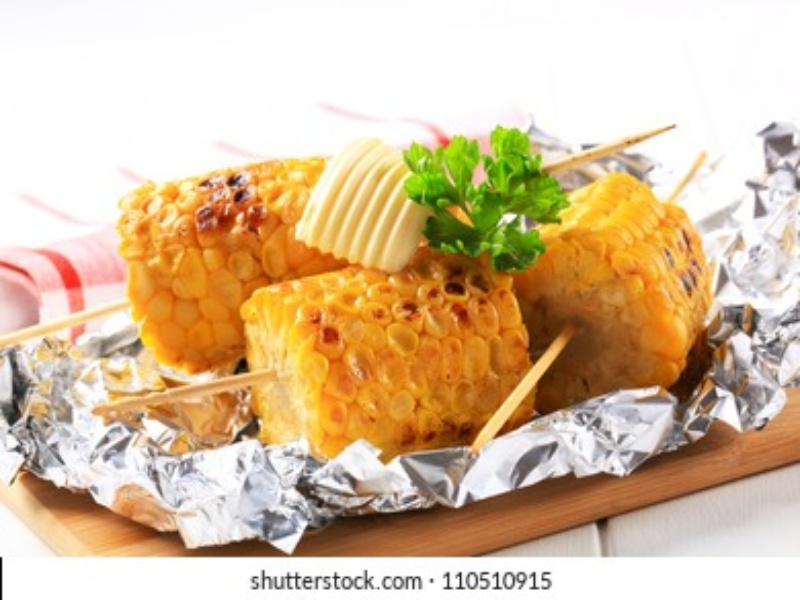Aluminium_Foil: (2, 332, 324, 529), (671, 145, 800, 408)
